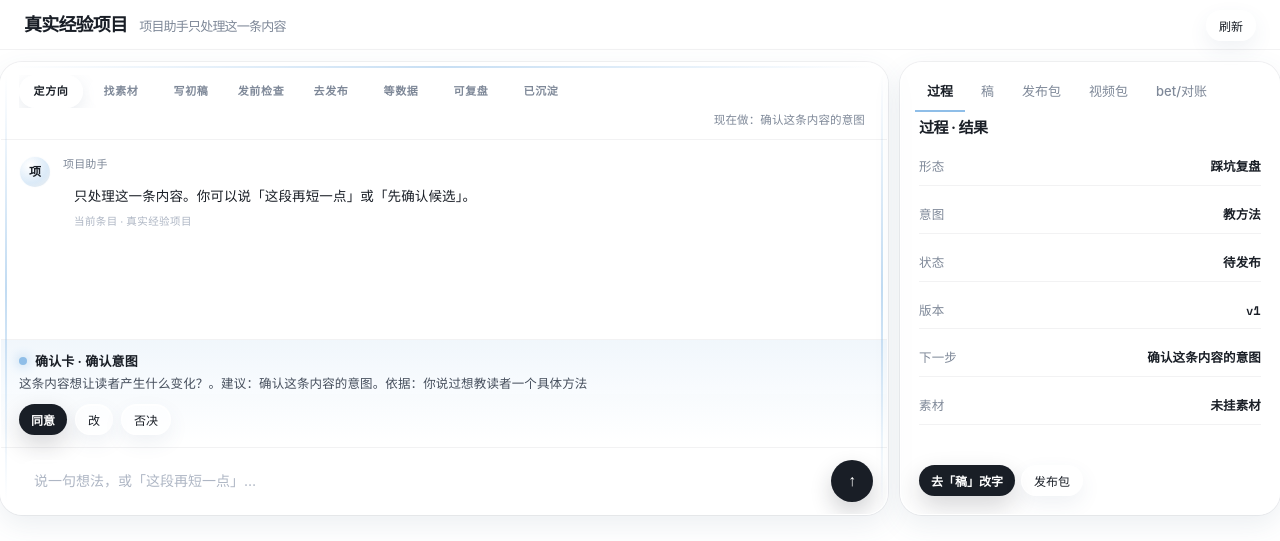
Scenario: ProjectStagePage › sends a question with project context and renders the model answer
Type "这段能再短一点吗？" into the field named "对项目助手说话" at (418, 481), box [15, 460, 821, 501]
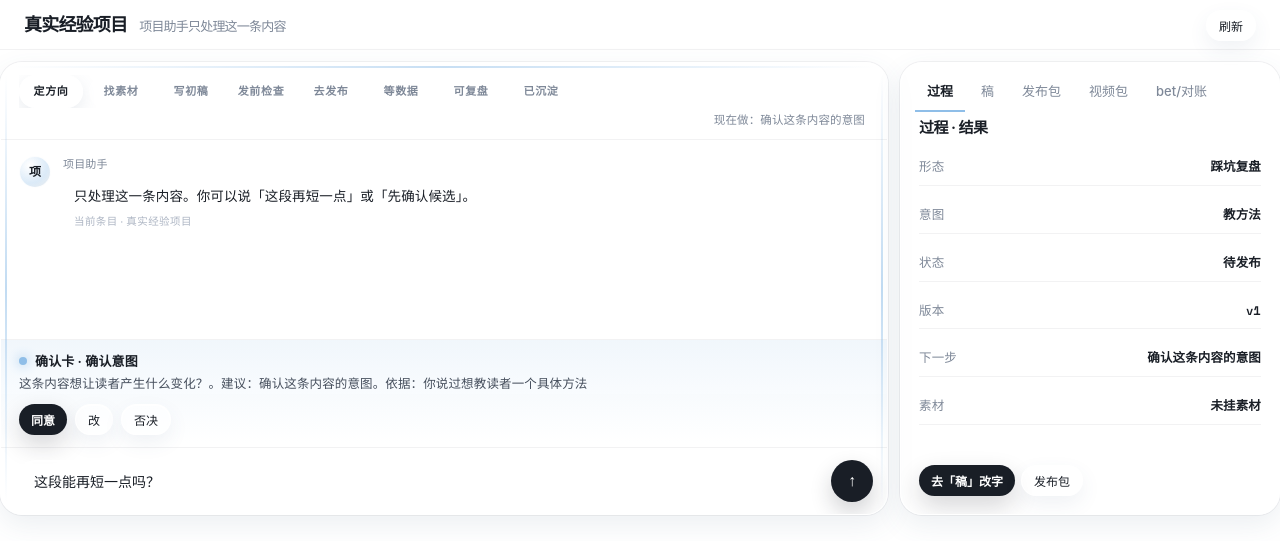
Press Enter in the field named "对项目助手说话", box [15, 460, 821, 501]
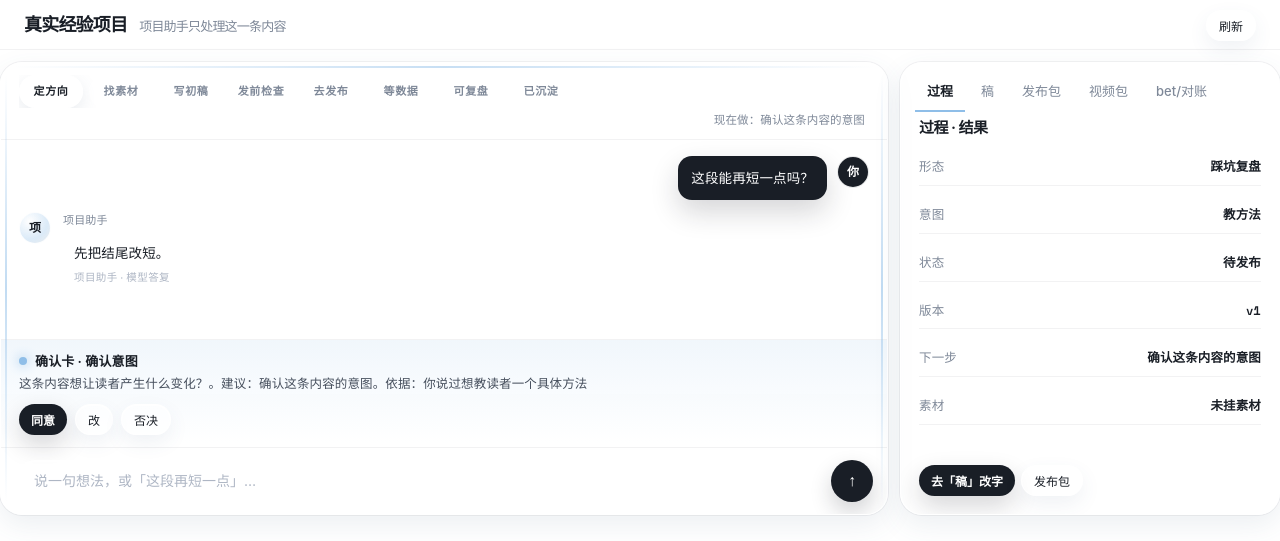
Result: the text "这段能再短一点吗？" is shown at [691, 167, 814, 189]
Result: the text "先把结尾改短。" is shown at [74, 242, 170, 264]
Result: the text "项目助手 · 模型答复" is shown at [74, 269, 170, 286]
